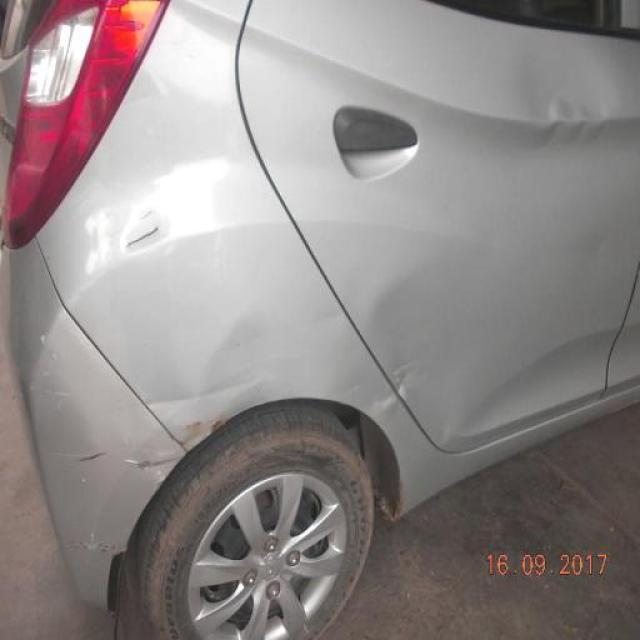Car-Damage: (337, 350, 423, 422), (139, 378, 269, 412), (537, 103, 616, 151), (118, 207, 171, 258), (173, 414, 231, 448), (126, 448, 170, 471), (79, 447, 113, 464)
